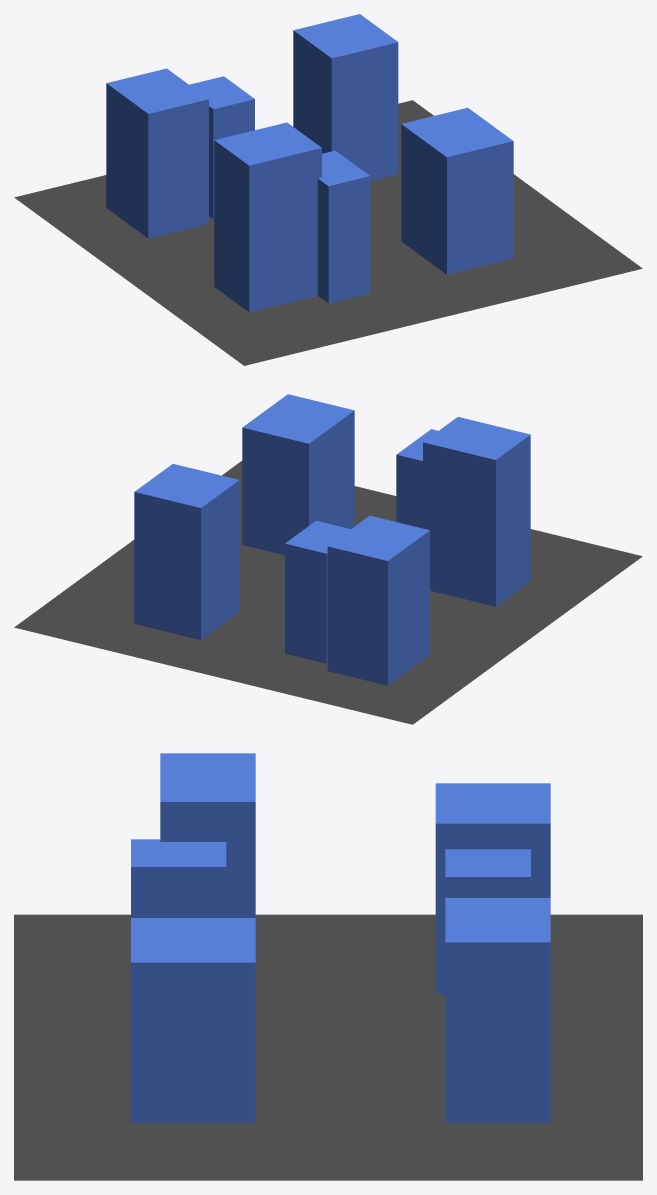
File: sat2lod2_baseline.glb
3 renders of one model, top to bottom at view 1: azimuth 30°, elevation 25°; view 2: azimuth 150°, elevation 25°; view 3: azimuth 270°, elevation 25°, orthographic. The views are drawn at different scales.
Bounding box in the file's own units: 64 × 23 × 64.
